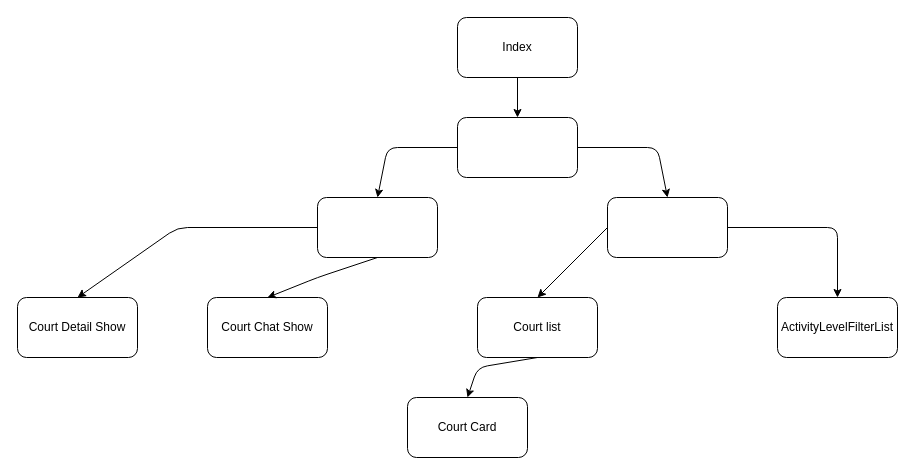
The diagram is 915 pixels wide and 475 high, and some of its shapes have lost their labels. The shapes that lost their labels are listed below. From the top down, each one's centre as x and y in pixels, then its label:
the point at 517,147: Application
the point at 377,227: Court Details Container
the point at 667,227: Court List container
